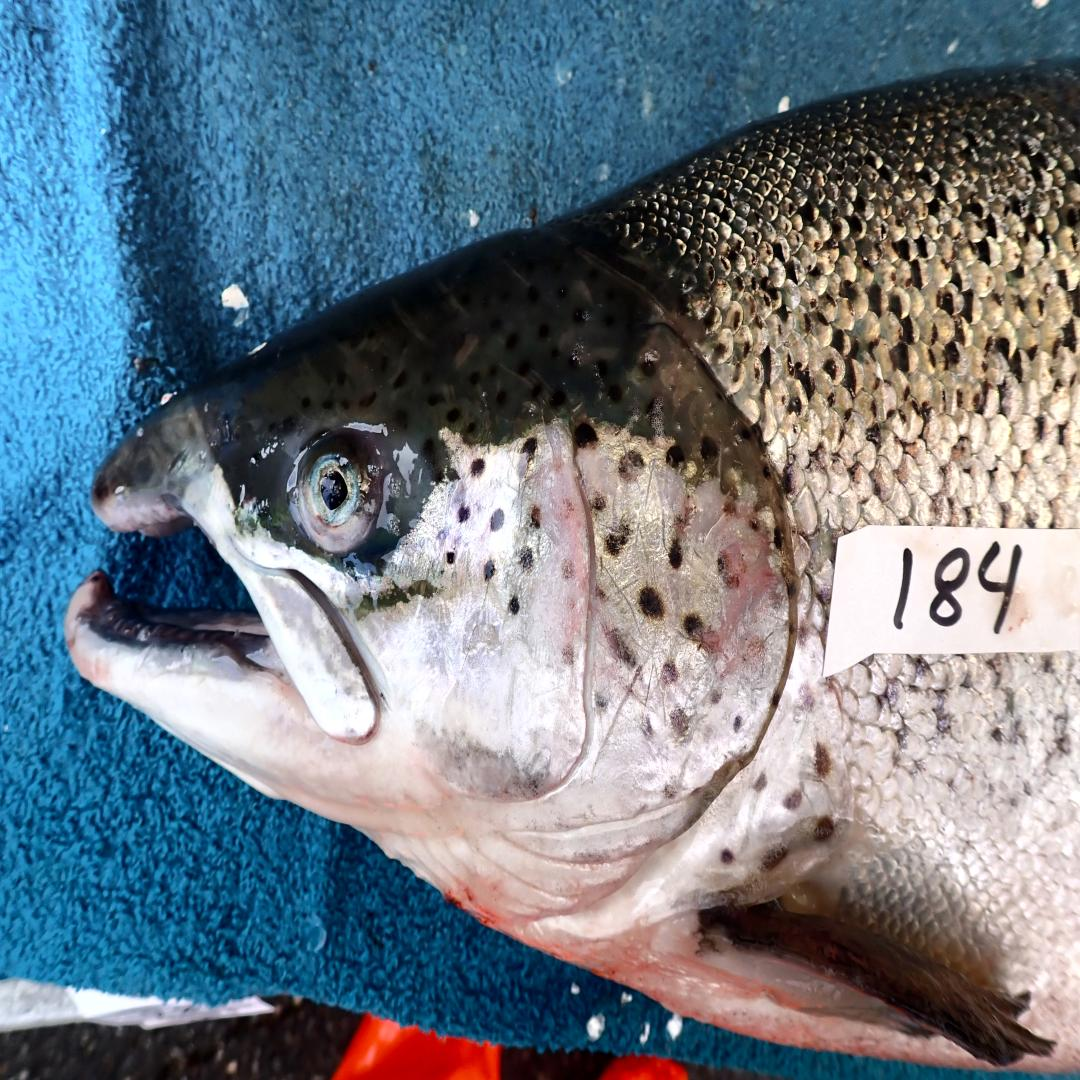spot: (607, 628, 639, 669), (606, 524, 633, 559), (518, 435, 538, 477), (639, 588, 664, 619), (618, 450, 643, 481), (681, 613, 705, 641), (663, 444, 687, 470), (574, 422, 597, 447), (671, 709, 690, 737), (660, 661, 679, 686), (669, 540, 683, 568), (489, 509, 504, 532), (589, 492, 607, 510), (519, 548, 534, 568), (641, 716, 652, 741), (470, 458, 485, 475), (773, 526, 784, 549), (561, 560, 574, 578), (595, 690, 606, 710), (485, 560, 496, 579), (664, 784, 677, 800), (458, 506, 470, 523), (445, 467, 459, 481), (508, 596, 519, 613), (532, 506, 540, 529), (562, 648, 573, 663), (734, 714, 742, 734), (716, 556, 725, 573), (710, 690, 722, 702), (750, 518, 760, 532), (447, 551, 456, 565)
